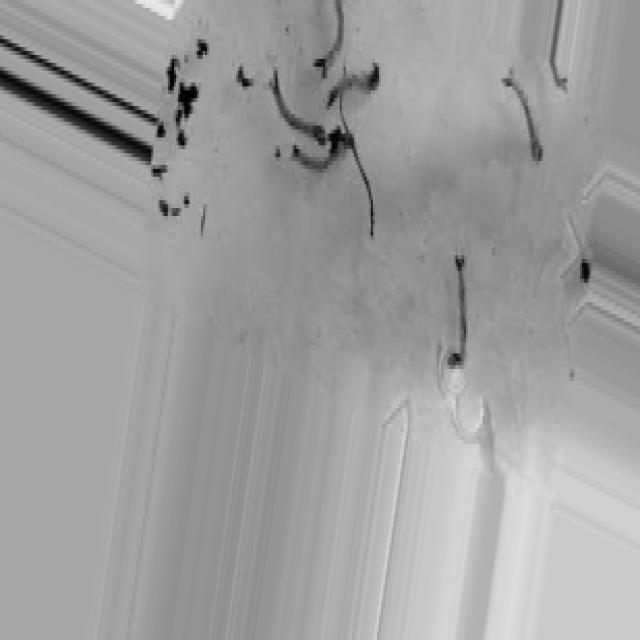larvas: (269, 75, 329, 141), (504, 74, 542, 160), (328, 66, 381, 111), (313, 0, 344, 76), (447, 253, 466, 370), (551, 0, 570, 93), (294, 137, 344, 169)
